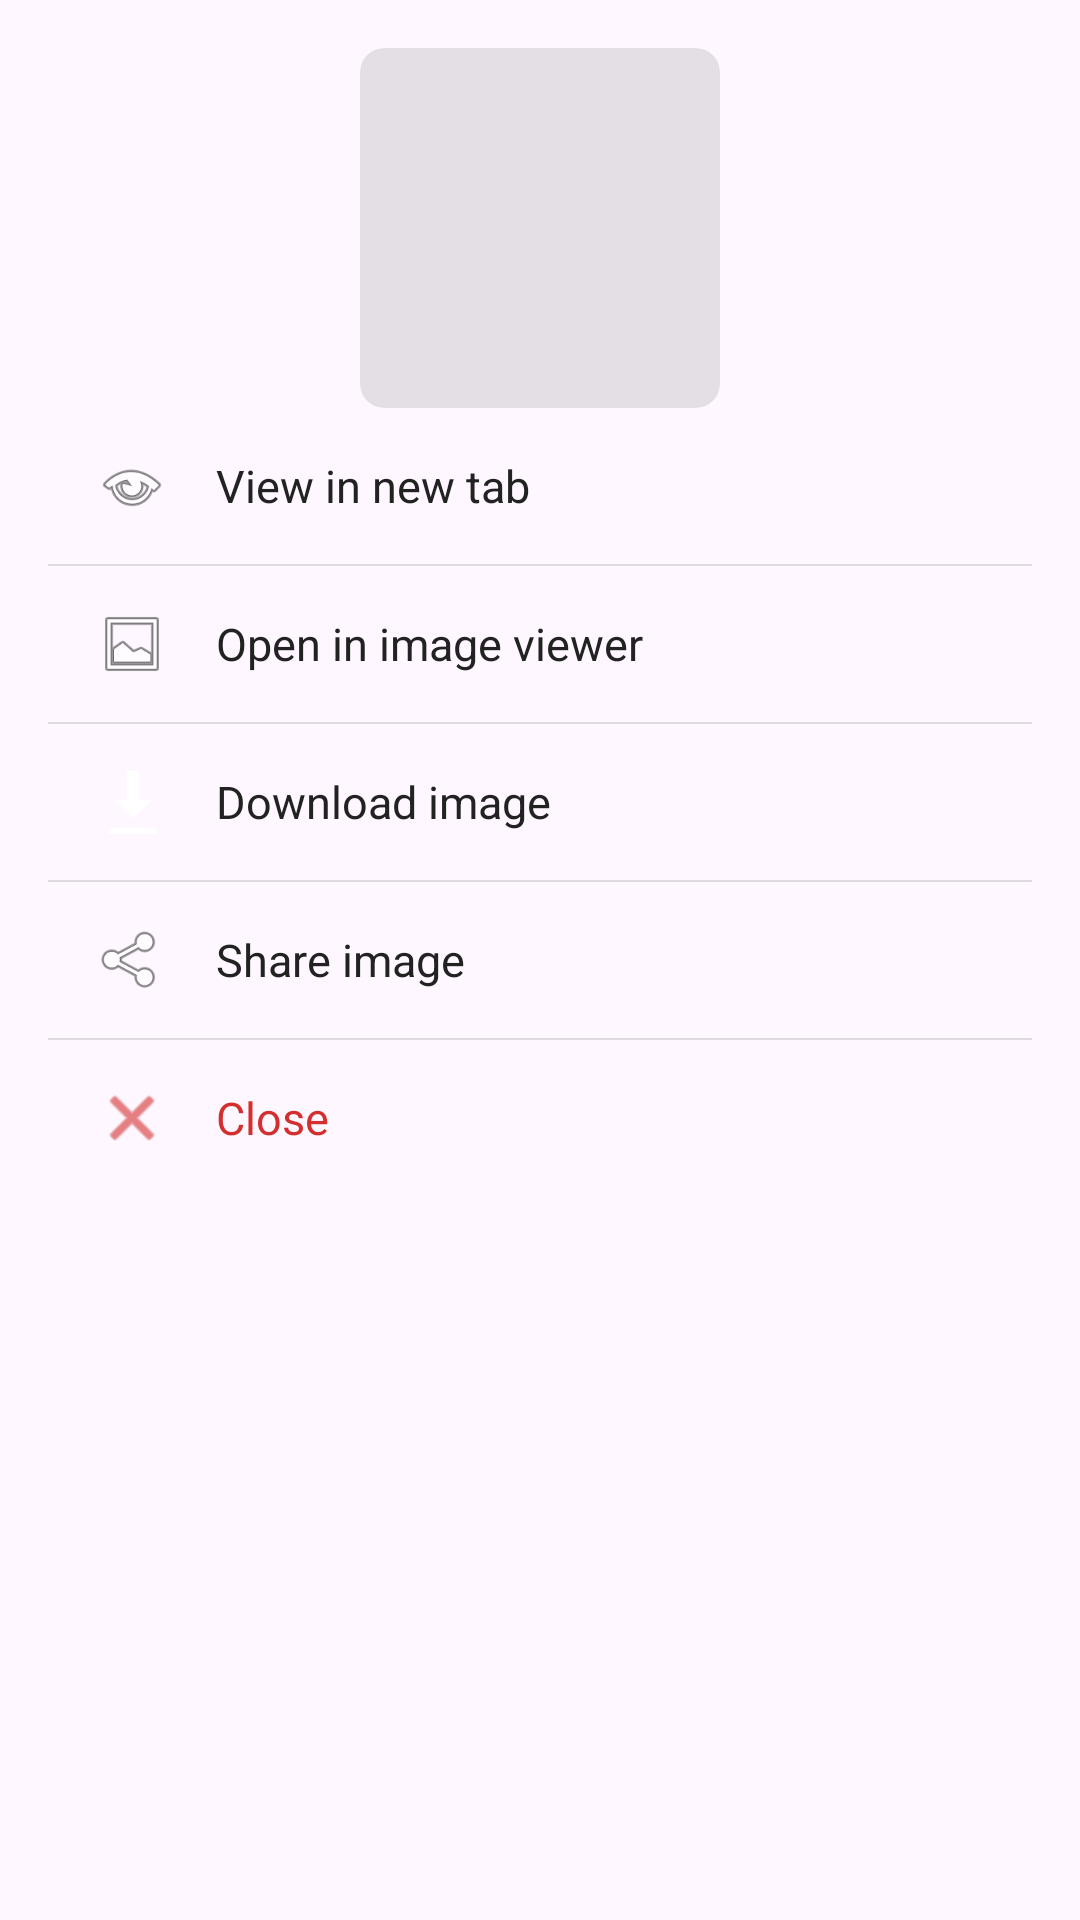

Named icons in this screenshot (1080px×1920px) and their bounding boxes, BBox(x1, y1, x2, y2):
gallery: BBox(105, 617, 159, 671)
